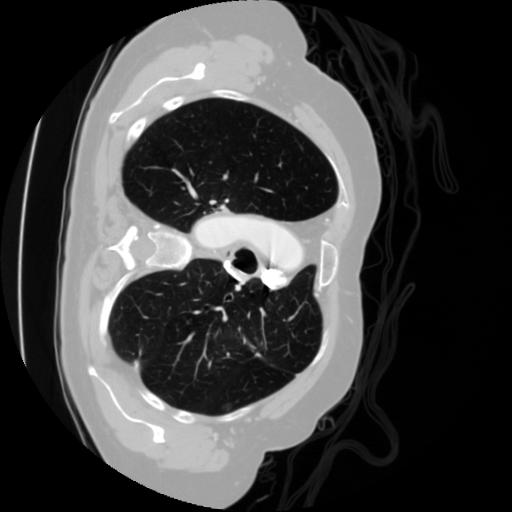nodule: (220, 401, 236, 417)
